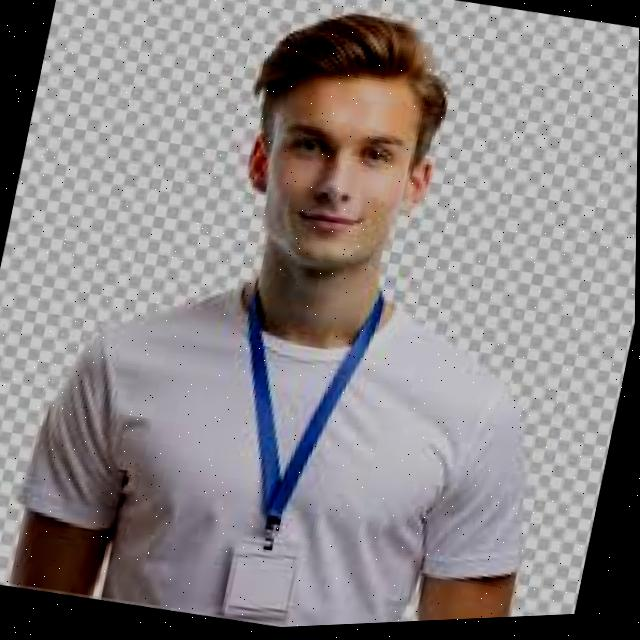id_card: (172, 270, 395, 634)
